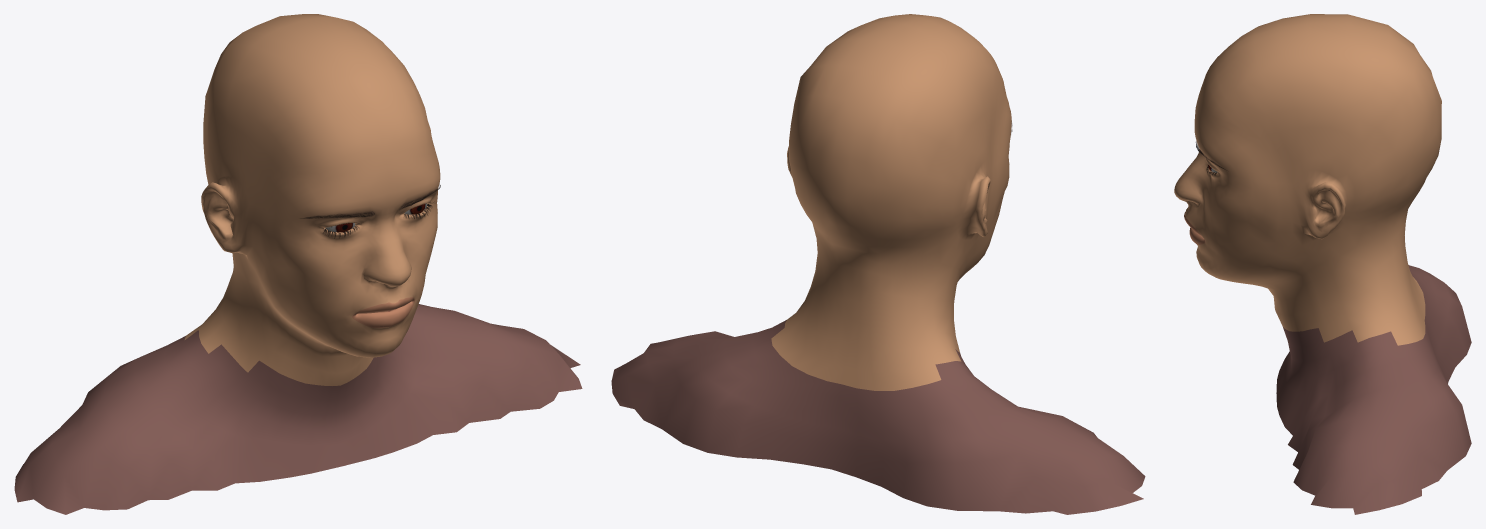
Rendered from man-03.glb.
The picture shows the model from 3 angles, left to right: view 1: azimuth 30°, elevation 25°; view 2: azimuth 150°, elevation 25°; view 3: azimuth 270°, elevation 25°; orthographic projection. The views are drawn at different scales.
Parts seen in each view (by area): view 1: mpfb-face; view 2: mpfb-face; view 3: mpfb-face.
Boxes of the visible parts, x1,y1,x2,y2 form: mpfb-face: [14, 14, 582, 514]; mpfb-face: [611, 14, 1145, 514]; mpfb-face: [1174, 14, 1471, 514].
Bounding box in the file's own units: 0.4672 × 0.33 × 0.2408.
Materials: 8 (5 with a texture image).
